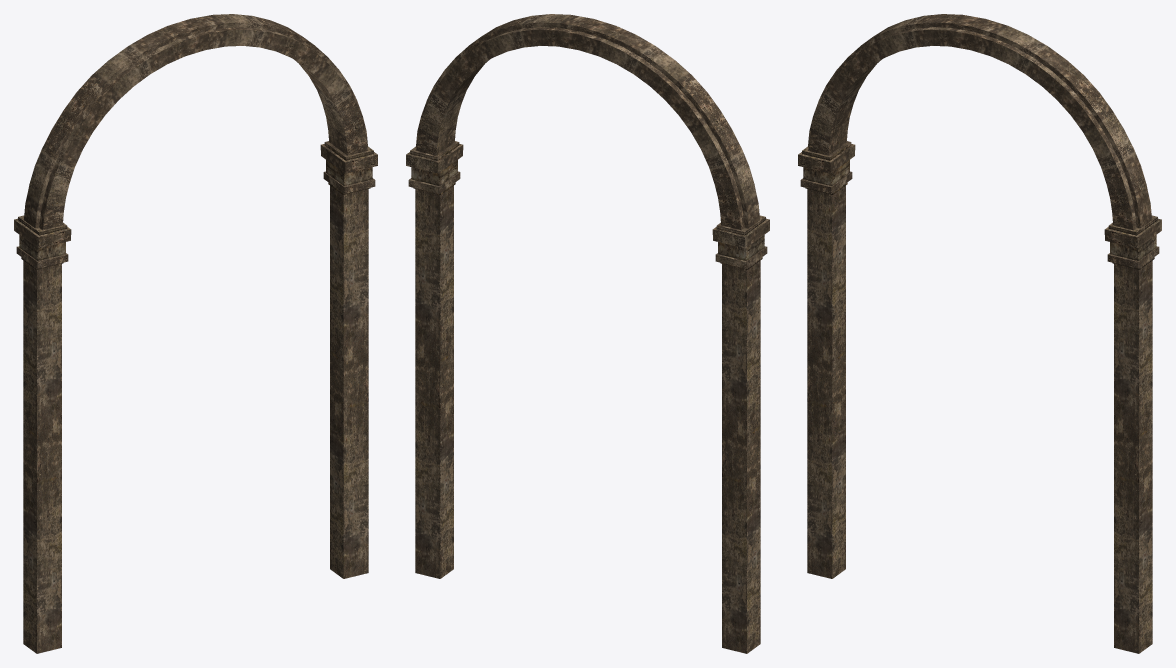
File: materials_5_arch_30.fbx
3 views of the same model, side by side, from view 1: azimuth 30°, elevation 25°; view 2: azimuth 150°, elevation 25°; view 3: azimuth 330°, elevation 25° (orthographic).
Parts seen in each view (by area): view 1: materials_5_arch_30; view 2: materials_5_arch_30; view 3: materials_5_arch_30.
Boxes of the visible parts, x1,y1,x2,y2 form: materials_5_arch_30: (14,14,377,653); materials_5_arch_30: (406,14,769,653); materials_5_arch_30: (798,14,1161,653).
Bounding box in the file's own units: 183 × 301 × 22.82.
